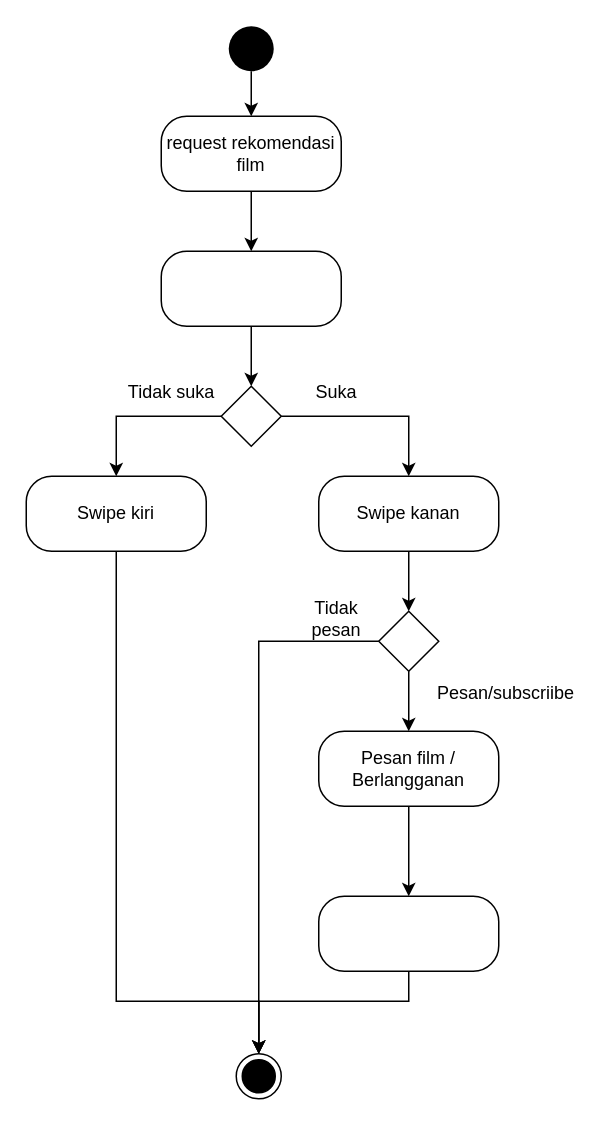
Image size: 600x1125. Some labels were removed from this diagram. The shapes that lost their labels are listed below. From the top down, each one's centre as x and y in pixels, then its label:
(x=250, y=288): Pilih film
(x=408, y=933): Pembayaran
